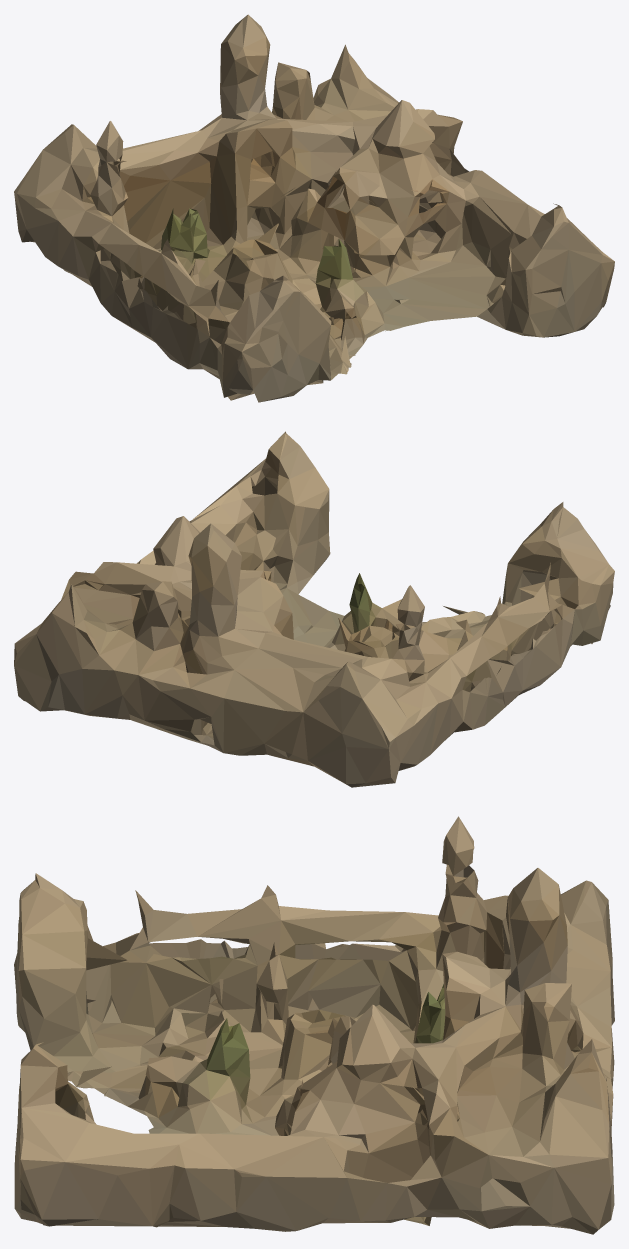
The model's file is elf_city.glb.
3 renders of one model, top to bottom at view 1: azimuth 30°, elevation 25°; view 2: azimuth 150°, elevation 25°; view 3: azimuth 270°, elevation 25°, orthographic. The views are drawn at different scales.
Visible parts, largest first — view 1: geometry_0; view 2: geometry_0; view 3: geometry_0.
Boxes of the visible parts, left/top/right/bottom form: geometry_0: left=14, top=14, right=614, bottom=402; geometry_0: left=14, top=431, right=614, bottom=787; geometry_0: left=14, top=816, right=614, bottom=1234.
Size of the model in its own units: 1.8 by 0.9351 by 1.88.
